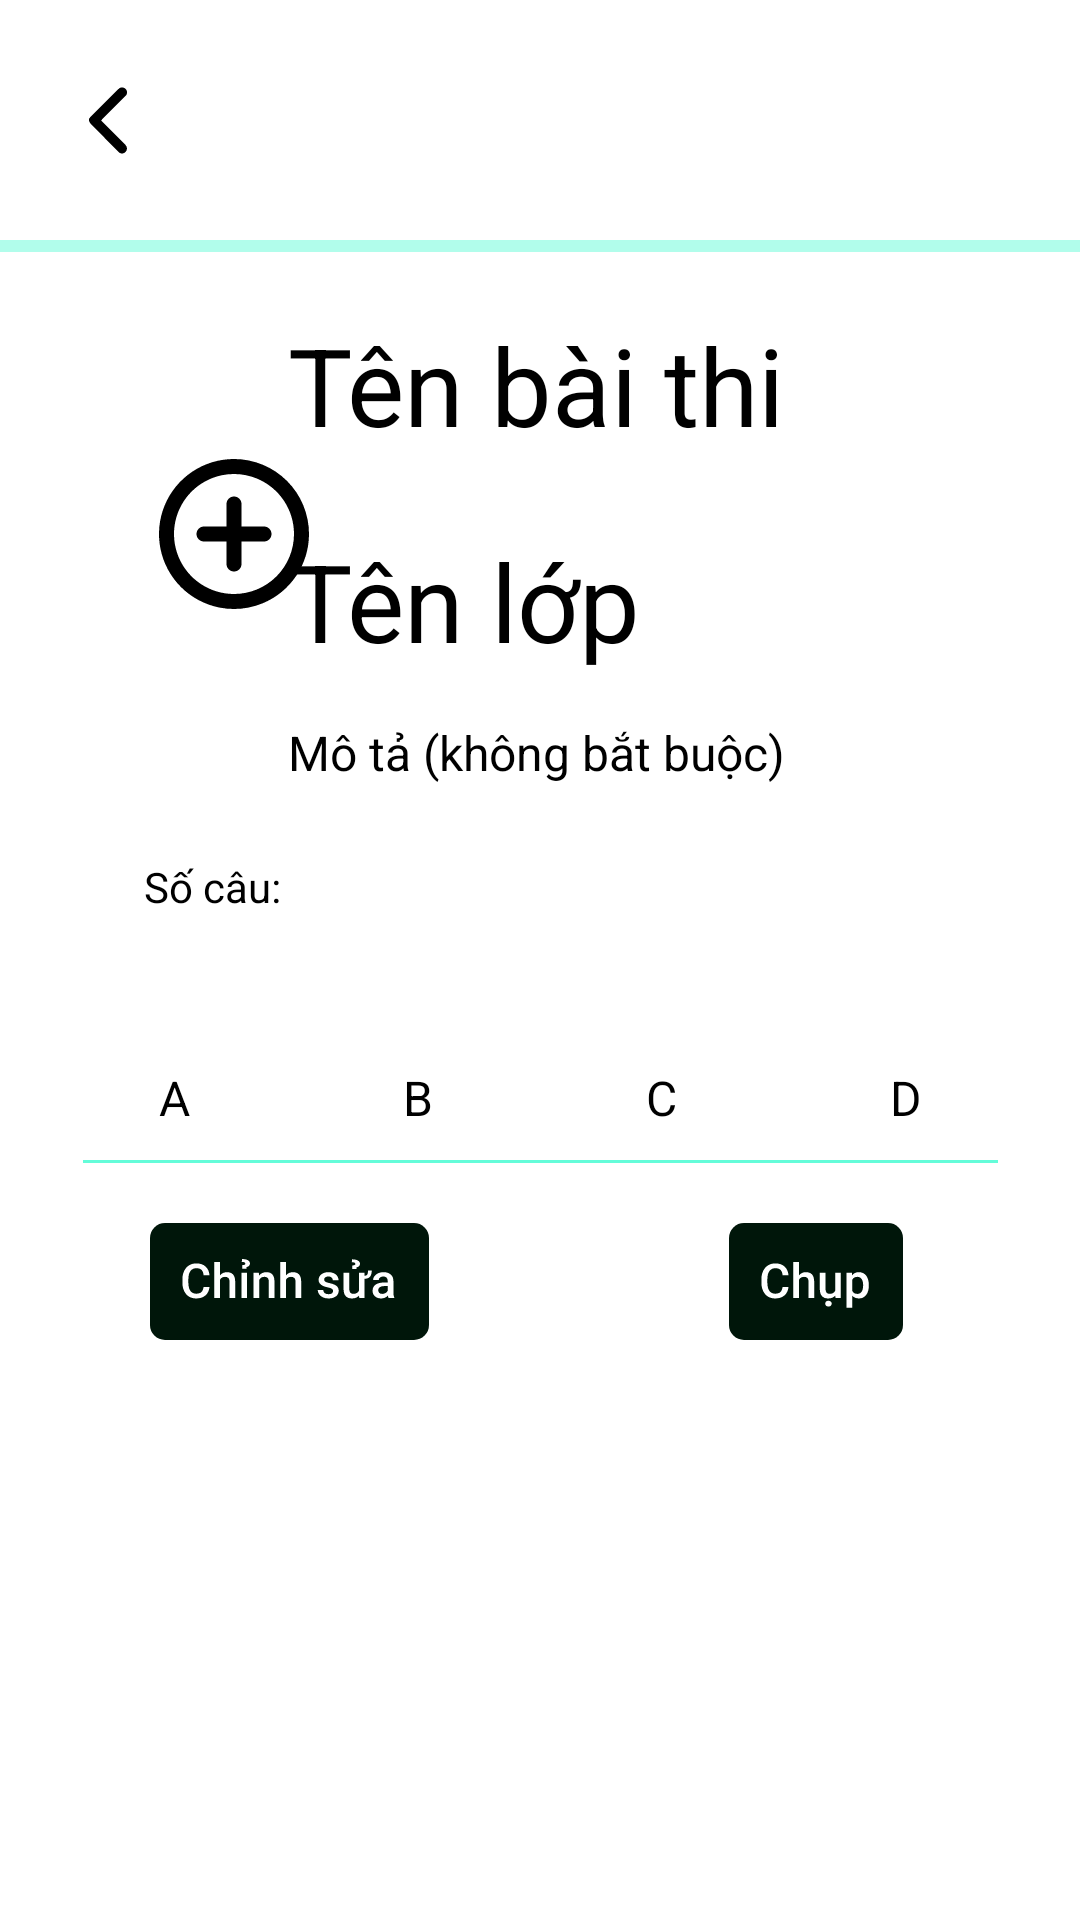

Screen size 1080x1920. Icon name, then its box in pixels as [left=x1, top=y1, right=x2, bottom=y2]:
back: [left=89, top=87, right=127, bottom=154]
